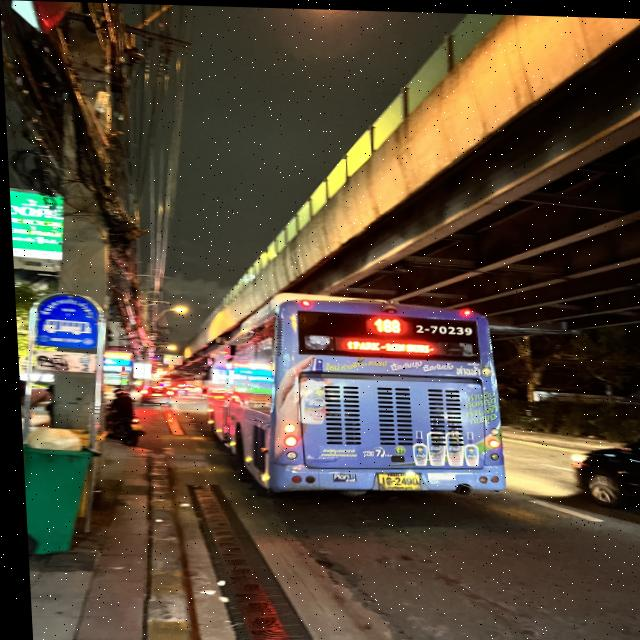BMTA-bus: (202, 294, 502, 495)
Bus Line Number: (366, 313, 401, 333)
Destination Sign: (412, 319, 471, 337)
